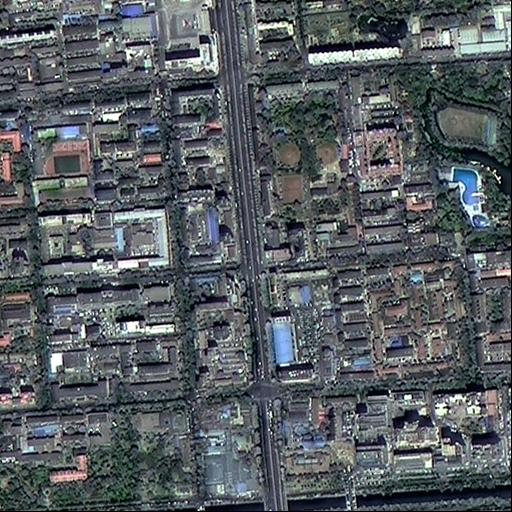school: (31, 121, 92, 206)
